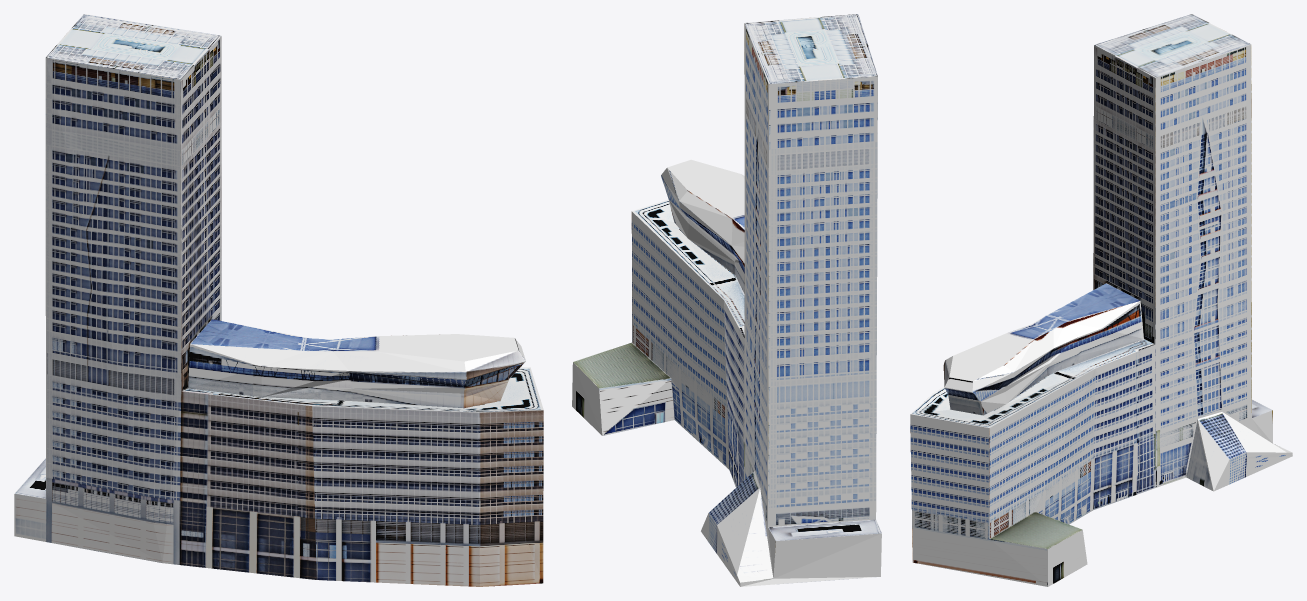
The model's file is 3.09_placed.glb.
3 views of the same model, side by side, from view 1: azimuth 30°, elevation 25°; view 2: azimuth 150°, elevation 25°; view 3: azimuth 270°, elevation 25° (orthographic). The views are drawn at different scales.
Visible parts, largest first — view 1: 3.092; view 2: 3.092; view 3: 3.092.
Part boxes in pixels (x1,y1,x2,y2): 3.092: (14,14,543,586); 3.092: (572,14,881,586); 3.092: (910,14,1292,586).
Bounding box in the file's own units: 121 × 139 × 117.
Materials: 1 (1 with a texture image).
